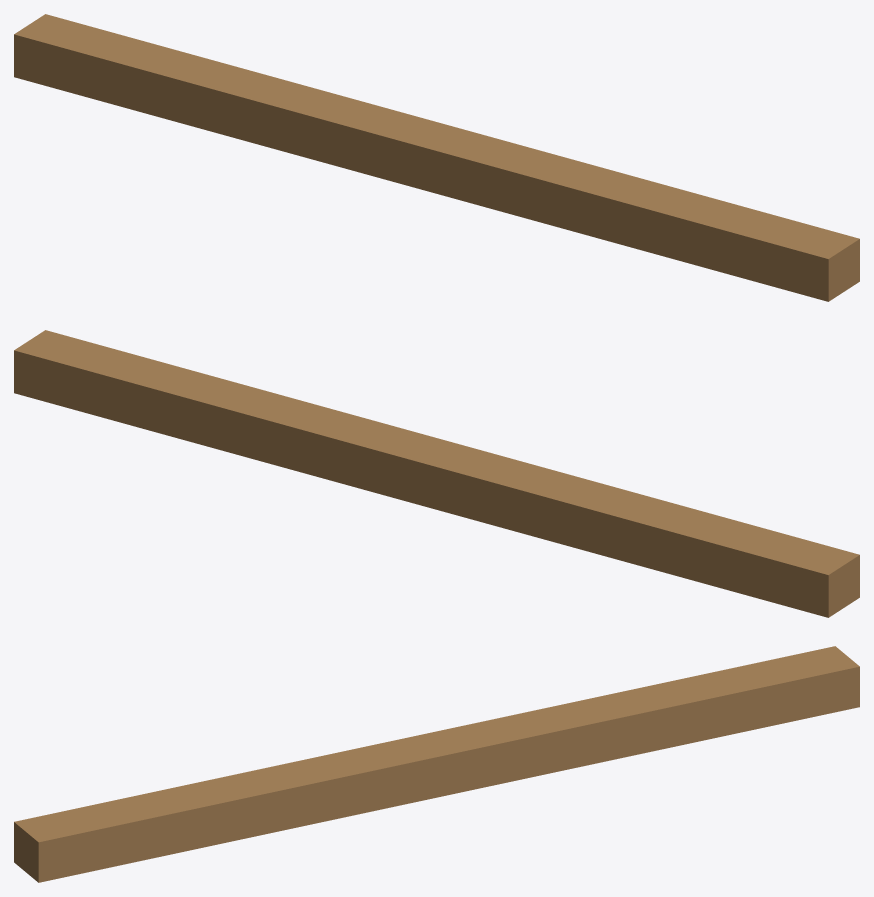
File: cartel_espacio_bot_lev4.glb
3 views of the same model, one above another, from view 1: azimuth 30°, elevation 25°; view 2: azimuth 210°, elevation 25°; view 3: azimuth 270°, elevation 25° (orthographic). The views are drawn at different scales.
Visible parts, largest first — view 1: cartel_espacio_bot_lev4; view 2: cartel_espacio_bot_lev4; view 3: cartel_espacio_bot_lev4.
Part boxes in pixels (x1,y1,x2,y2): cartel_espacio_bot_lev4: [14, 14, 859, 301]; cartel_espacio_bot_lev4: [14, 330, 859, 617]; cartel_espacio_bot_lev4: [14, 646, 859, 882].
Size of the model in its own units: 5.43 by 0.5222 by 9.88.
